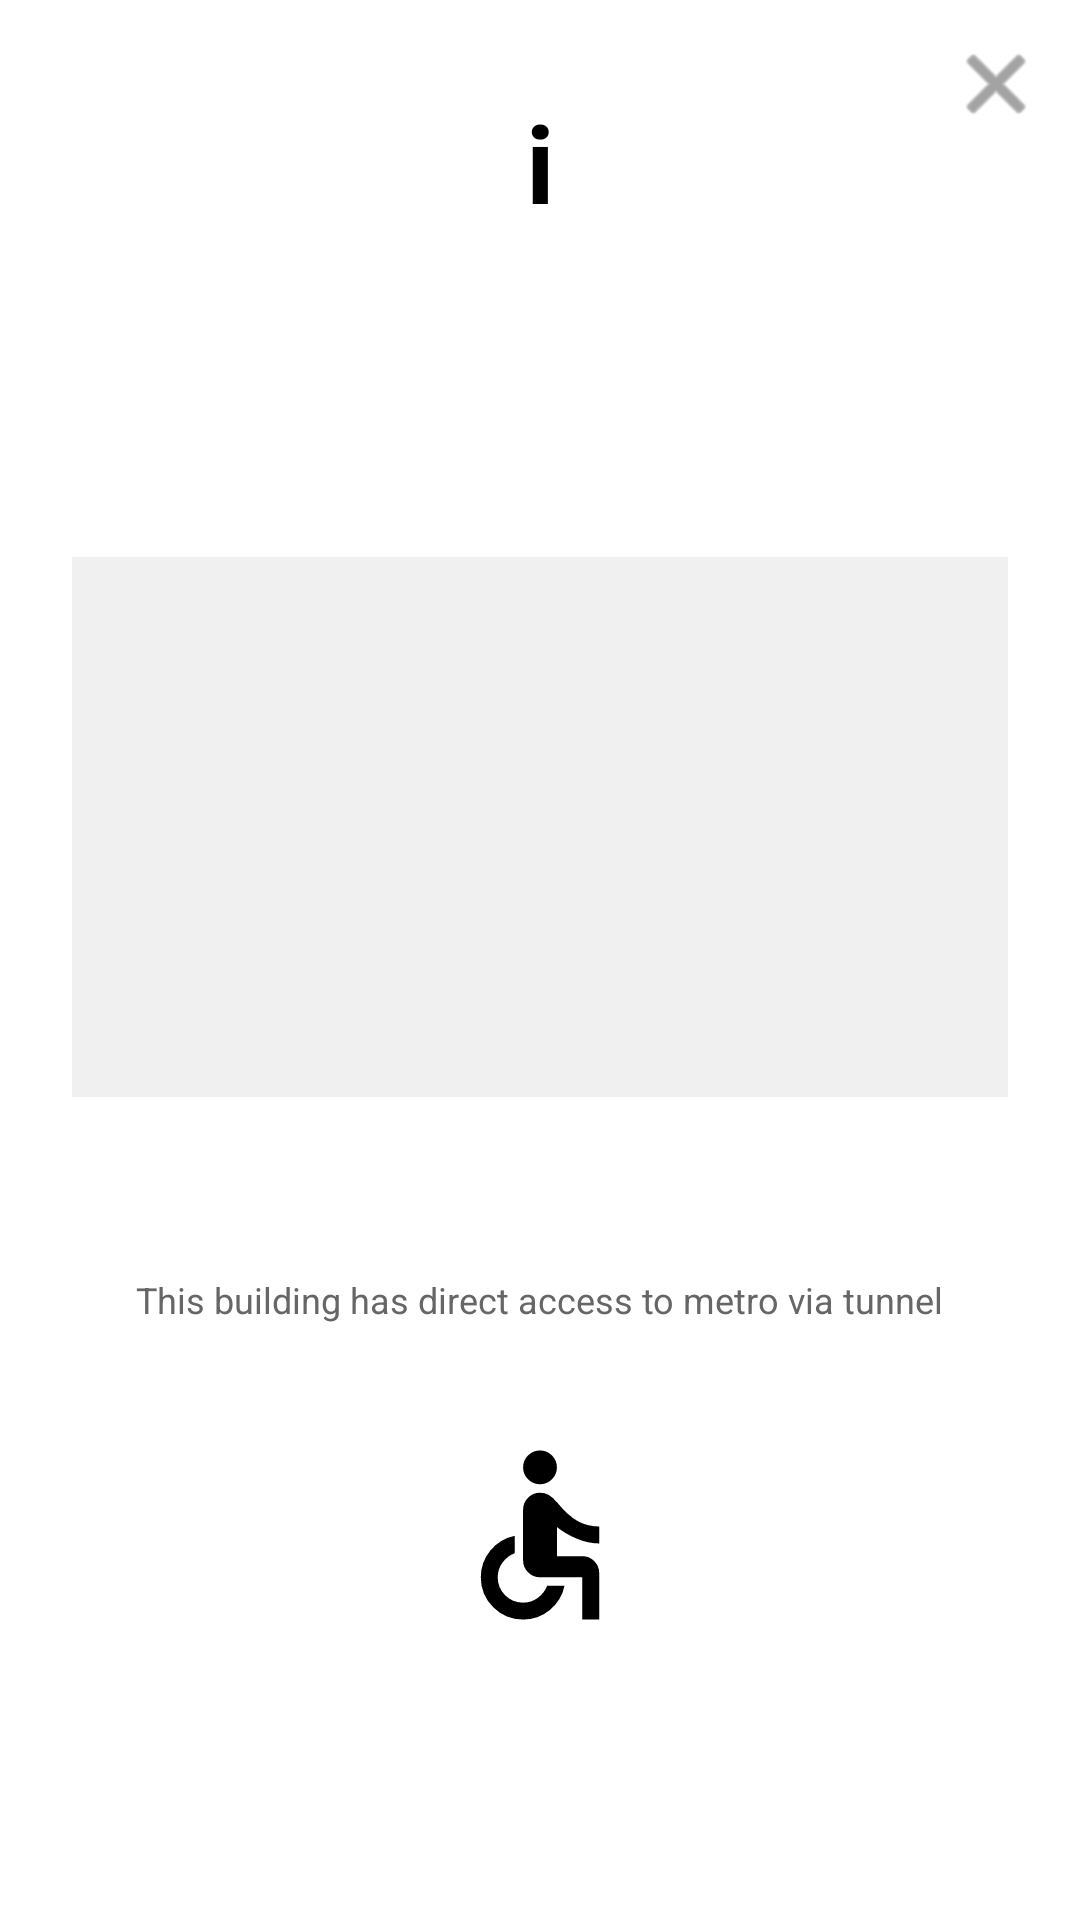

Where to tap for icons on this 1080w x 1920h app screen, as point (x, y):
accessibility: point (540, 1535)
Close: point (996, 84)
